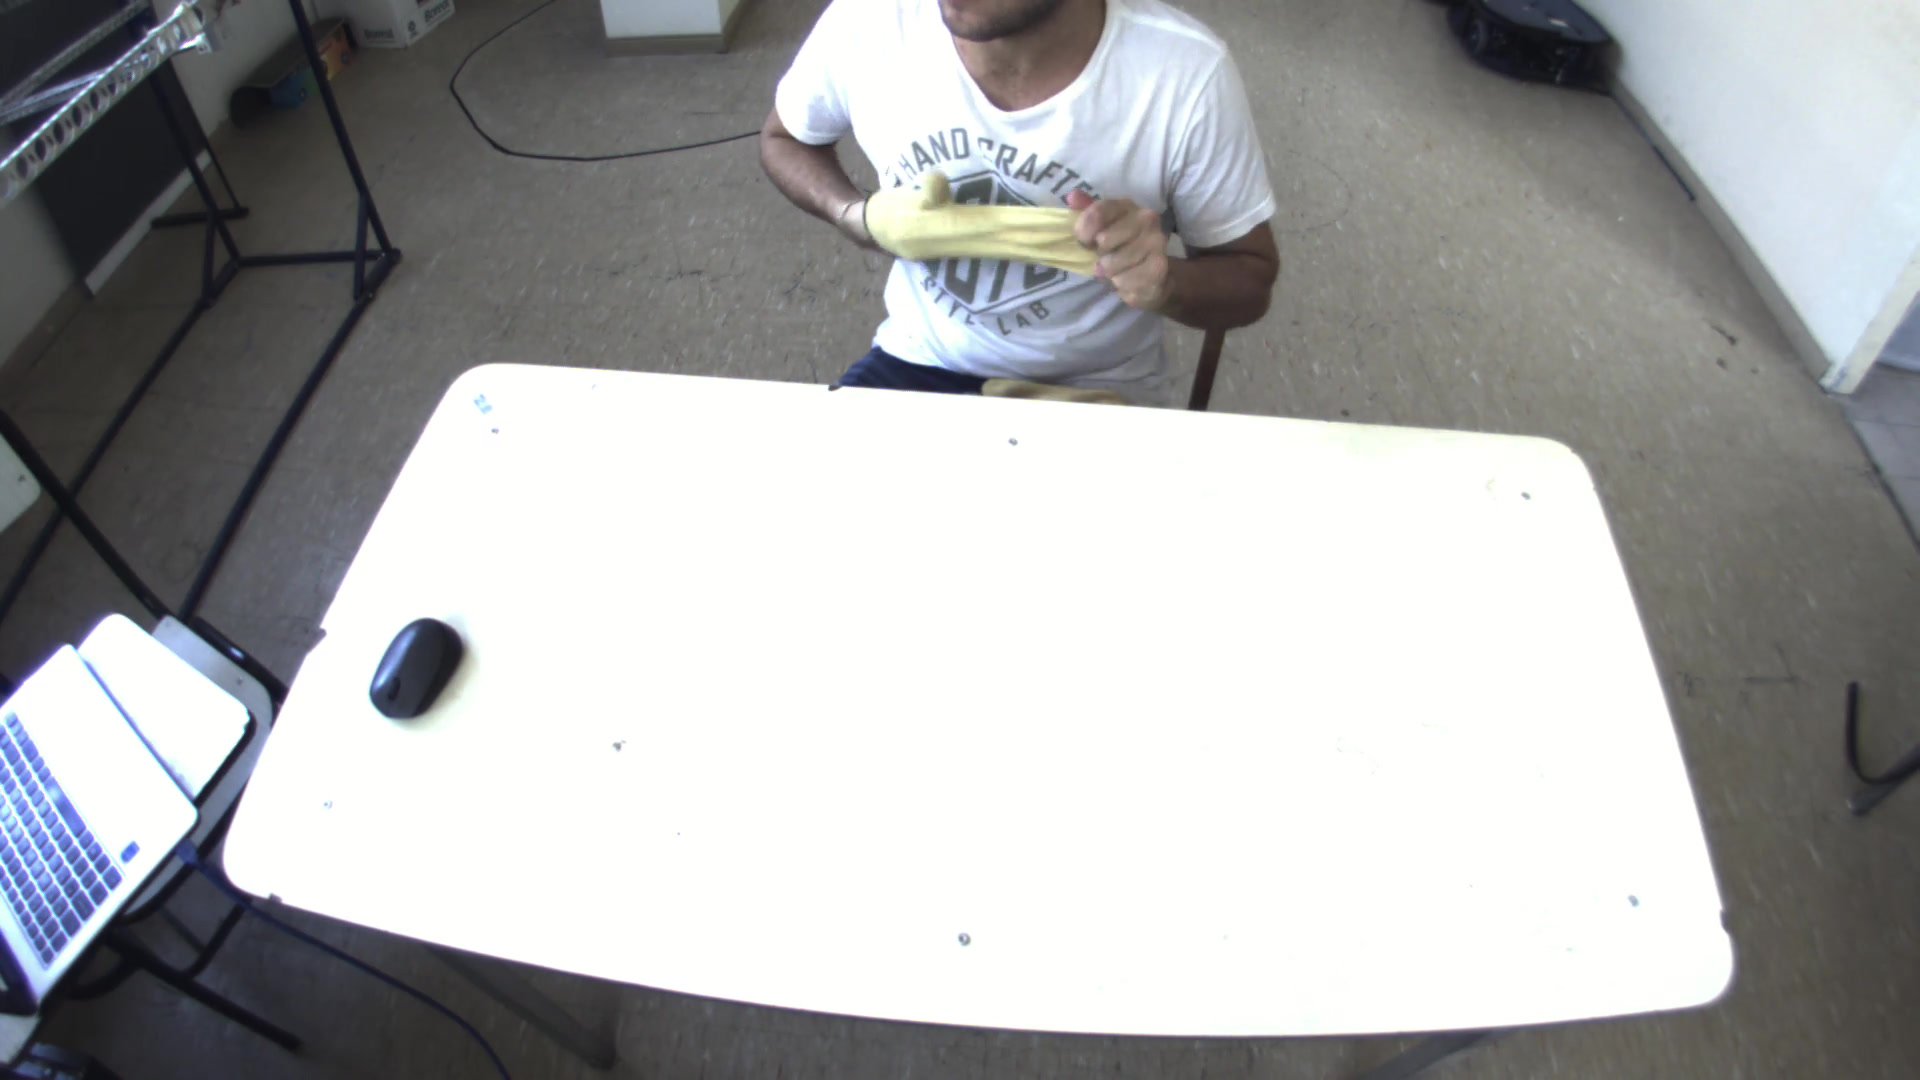hand: (848, 167, 1097, 276), (1067, 183, 1185, 310)
